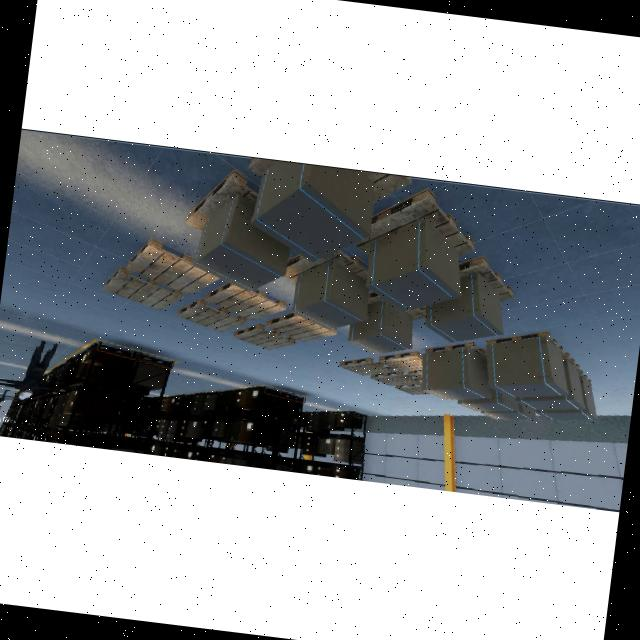wooden_pallet: (354, 185, 475, 257), (246, 158, 412, 206), (125, 239, 219, 294), (185, 168, 260, 233), (101, 266, 183, 312), (205, 282, 286, 321), (459, 255, 515, 303), (176, 298, 247, 333), (265, 312, 338, 342), (485, 332, 564, 354), (232, 324, 296, 351), (424, 341, 486, 359), (338, 358, 393, 376), (378, 351, 422, 371), (370, 371, 420, 386), (394, 382, 429, 395), (407, 370, 422, 381)
